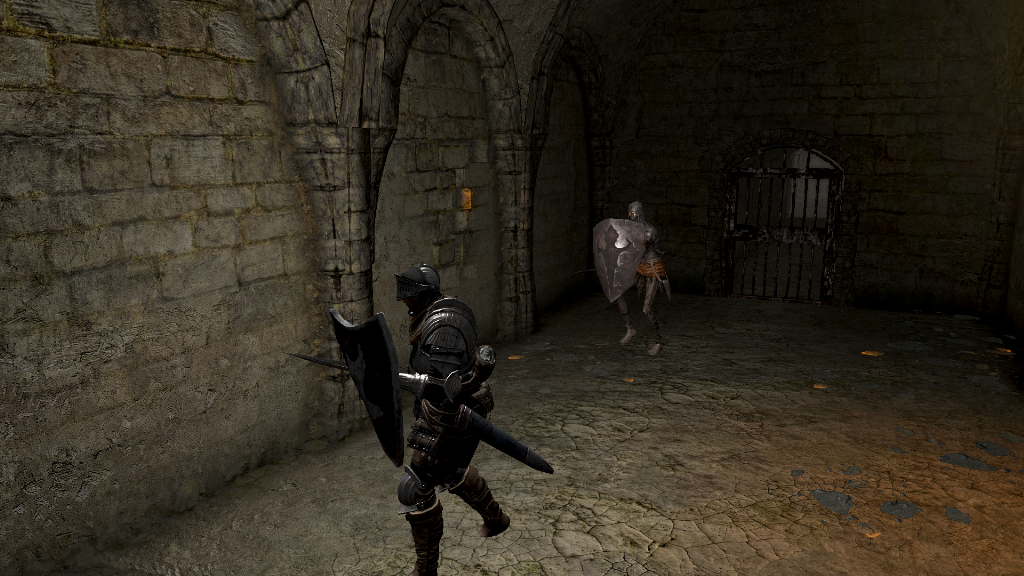player: (288, 266, 512, 576)
undeadSoldier: (611, 201, 669, 356)
